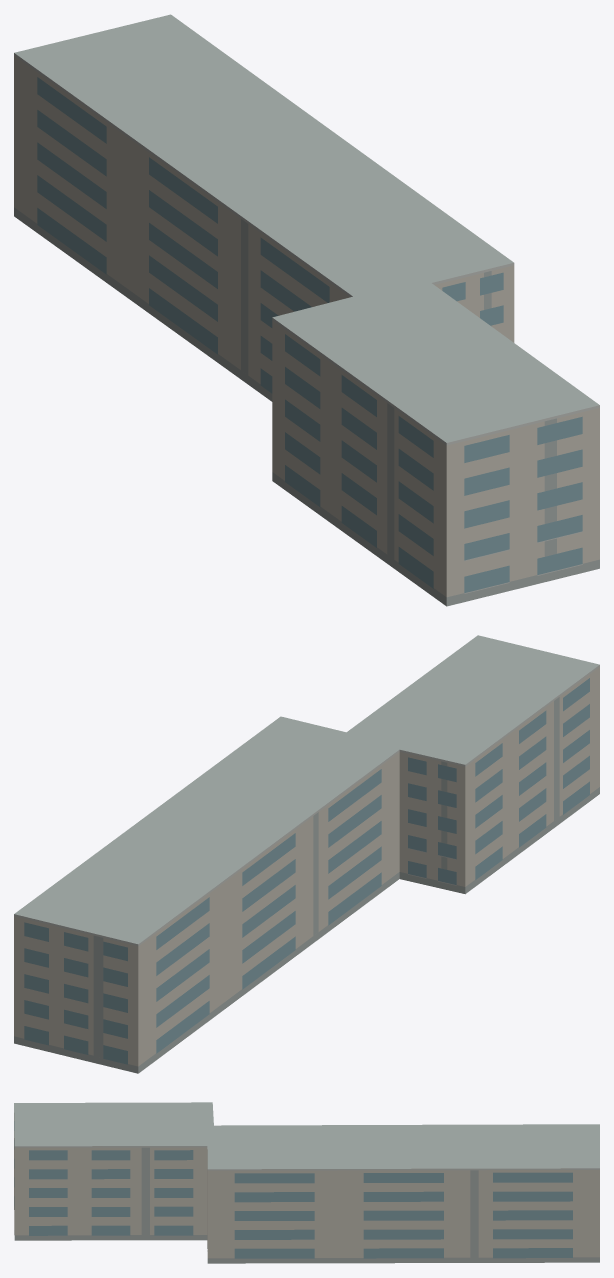
Rendered from survey-upis-32634715.glb.
3 renders of one model, top to bottom at view 1: azimuth 30°, elevation 25°; view 2: azimuth 150°, elevation 25°; view 3: azimuth 270°, elevation 25°, orthographic. The views are drawn at different scales.
Parts seen in each view (by area): view 1: survey-upis-32634715.tmp; view 2: survey-upis-32634715.tmp; view 3: survey-upis-32634715.tmp.
Boxes of the visible parts, box(x1,y1,x2,y2) form: survey-upis-32634715.tmp: box(14, 14, 599, 606); survey-upis-32634715.tmp: box(14, 635, 599, 1073); survey-upis-32634715.tmp: box(14, 1102, 599, 1263).
Bounding box in the file's own units: 23.2 × 15.25 × 85.91.
